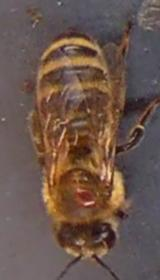varroa_mite: (56, 174, 112, 215)
